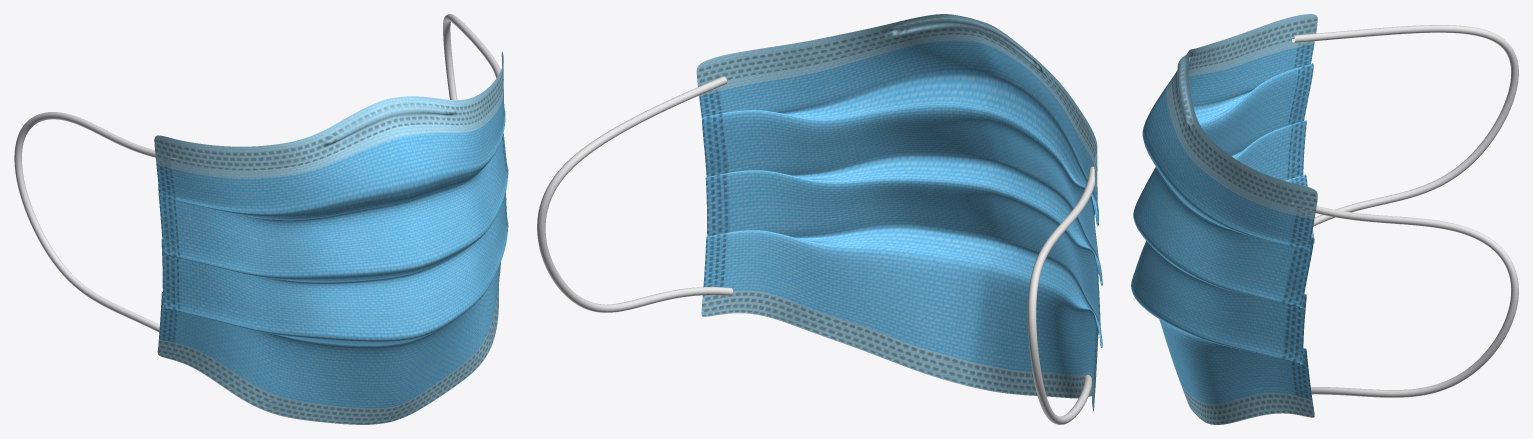
The model's file is mask_1.glb.
The picture shows the model from 3 angles, left to right: view 1: azimuth 30°, elevation 25°; view 2: azimuth 150°, elevation 25°; view 3: azimuth 270°, elevation 25°; orthographic projection. The views are drawn at different scales.
Parts seen in each view (by area): view 1: pPlane2, NurbsPath; view 2: pPlane2, NurbsPath; view 3: pPlane2, NurbsPath.
Boxes of the visible parts, x1=… form: pPlane2: x1=154, y1=51, x2=508, y2=424; NurbsPath: x1=14, y1=14, x2=503, y2=331; pPlane2: x1=696, y1=14, x2=1102, y2=411; NurbsPath: x1=537, y1=76, x2=1097, y2=424; pPlane2: x1=1131, y1=14, x2=1317, y2=424; NurbsPath: x1=1291, y1=25, x2=1518, y2=397.
Size of the model in its own units: 1.07 by 0.7565 by 0.7913.
2 materials, 1 textured.
